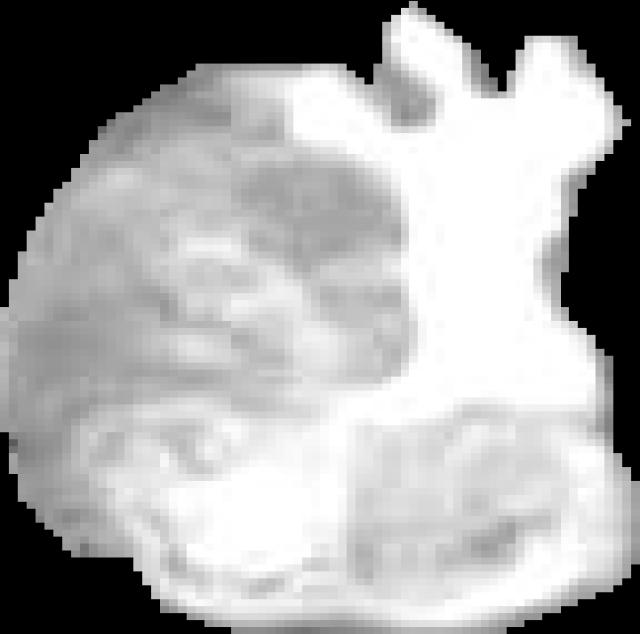tumor_moderate_chance: (0, 1, 640, 634)
